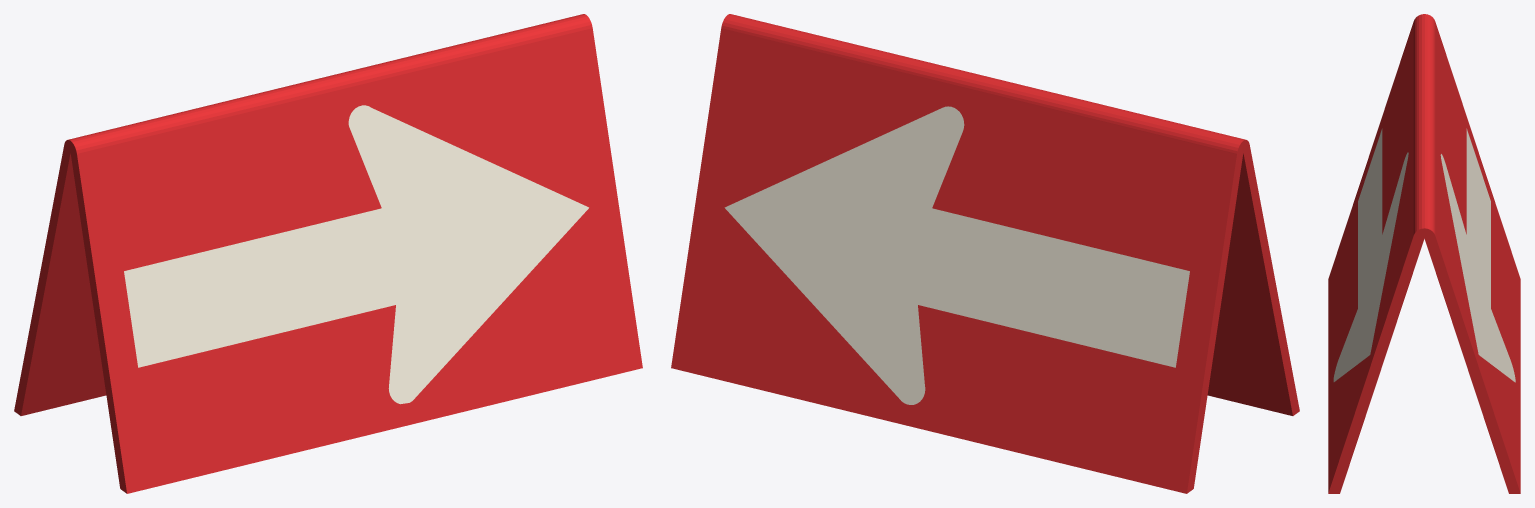
The model's file is arrow.fbx.
The picture shows the model from 3 angles, left to right: view 1: azimuth 30°, elevation 25°; view 2: azimuth 150°, elevation 25°; view 3: azimuth 270°, elevation 25°; orthographic projection. The views are drawn at different scales.
Parts seen in each view (by area): view 1: arrow; view 2: arrow; view 3: arrow.
Part boxes in pixels (left/top/right/bottom): arrow: left=14, top=14, right=642, bottom=493; arrow: left=671, top=14, right=1299, bottom=493; arrow: left=1328, top=14, right=1520, bottom=493.
Size of the model in its own units: 90 by 52 by 34.18.
